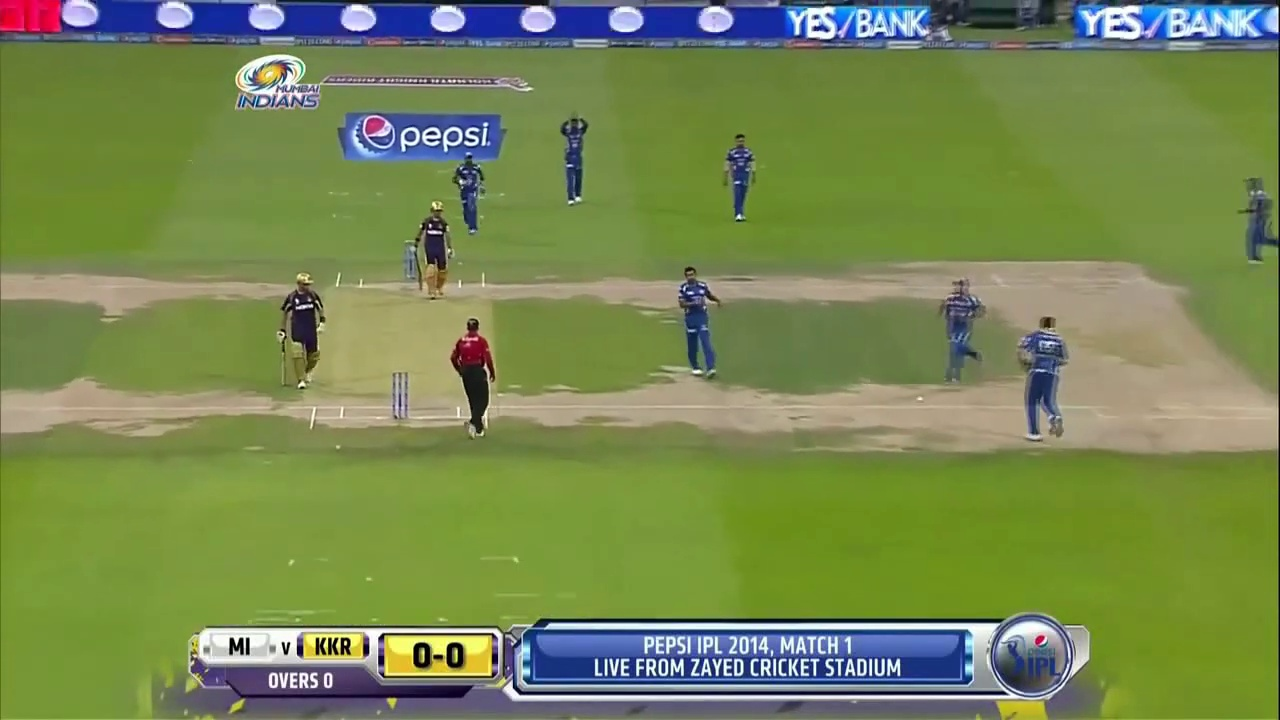bat: (279, 346, 287, 387)
stumps: (390, 369, 411, 419)
